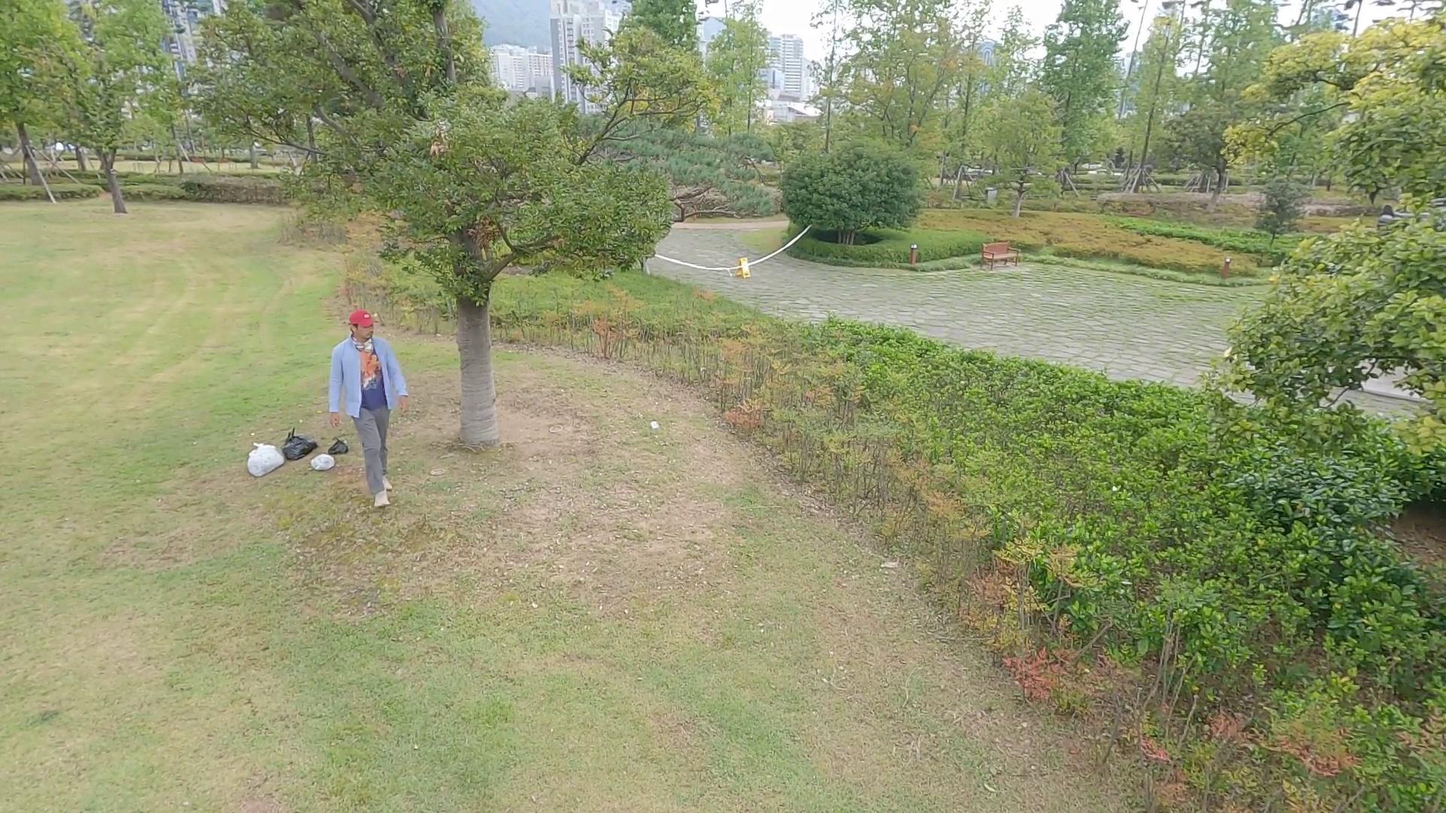person: (332, 305, 414, 511)
trash: (243, 440, 288, 480), (282, 426, 319, 459), (310, 449, 336, 474), (328, 438, 349, 457)
